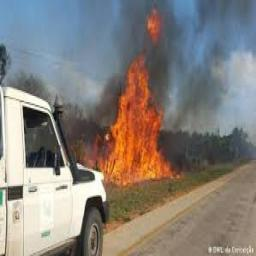Low smoke: (151, 0, 255, 159)
Medium fire: (92, 5, 191, 181)
